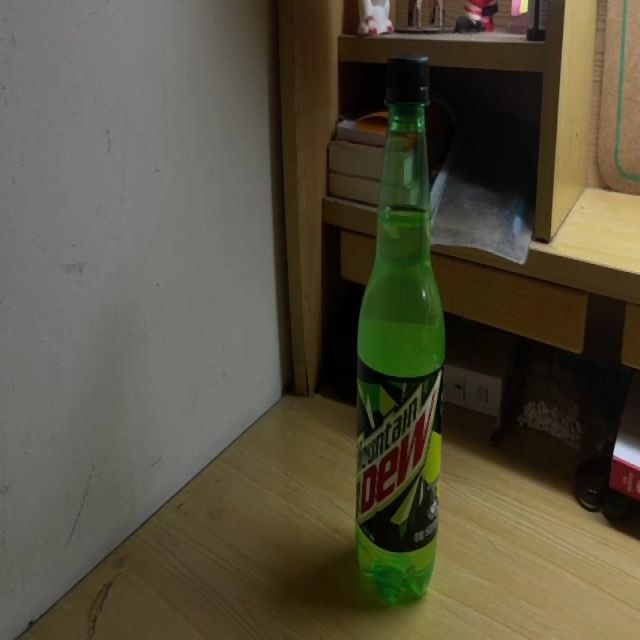Mountain-Dew: (353, 52, 444, 612)
